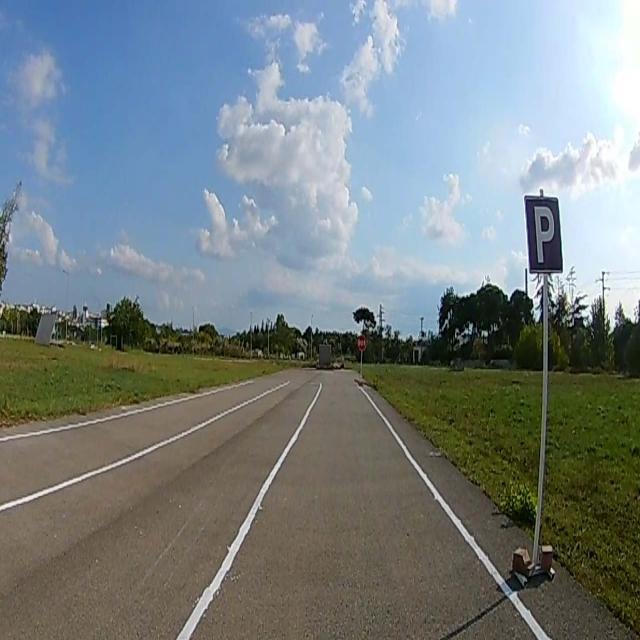park: (524, 196, 562, 272)
